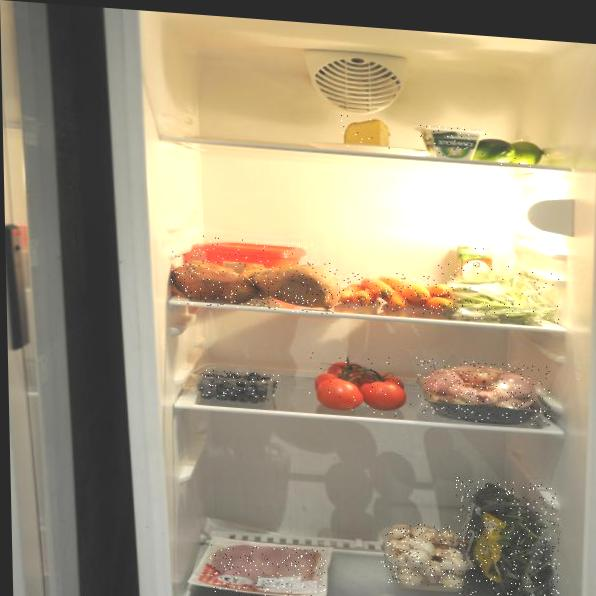blueberries: (200, 369, 280, 401)
butter: (193, 235, 314, 291)
carrot: (334, 268, 456, 316)
cheese: (341, 115, 396, 151)
chicken: (416, 358, 551, 427)
goat_cheese: (419, 125, 487, 159)
green_beans: (437, 259, 560, 327)
ham: (210, 542, 327, 596)
heavy_cream: (454, 244, 495, 293)
lime: (471, 135, 553, 169)
mushrooms: (380, 521, 478, 589)
spinach: (456, 477, 561, 596)
sweet_potato: (171, 252, 336, 316)
tomato: (308, 351, 413, 418)
